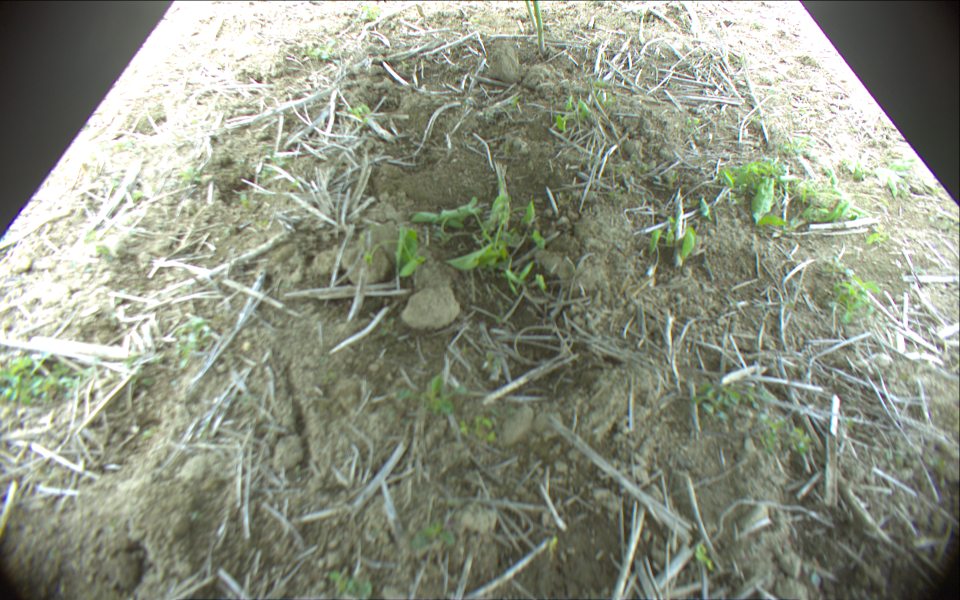aspa: (534, 1, 546, 55), (525, 1, 536, 32)
